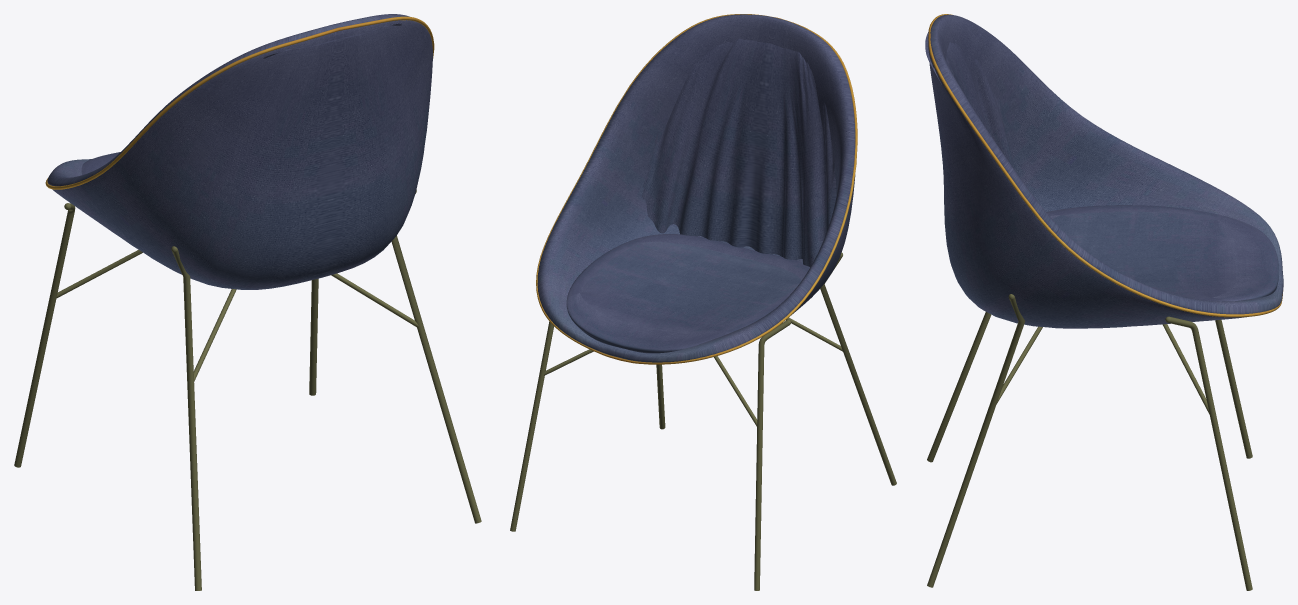
File: chair.glb
3 views of the same model, side by side, from view 1: azimuth 30°, elevation 25°; view 2: azimuth 150°, elevation 25°; view 3: azimuth 270°, elevation 25° (orthographic). The views are drawn at different scales.
Parts seen in each view (by area): view 1: Kütle, Ayaklar, Bağlantılar, Sweep; view 2: Kütle, Minderü, Bağlantılar, Sweep, Ayaklar; view 3: Kütle, Minderü, Bağlantılar, Ayaklar, Sweep.
Boxes of the visible parts, bbox=[...] form: Kütle: bbox=[47, 14, 432, 289]; Ayaklar: bbox=[171, 190, 481, 590]; Bağlantılar: bbox=[14, 203, 418, 467]; Sweep: bbox=[45, 16, 434, 189]; Kütle: bbox=[537, 14, 855, 362]; Minderü: bbox=[566, 234, 809, 353]; Bağlantılar: bbox=[510, 317, 842, 590]; Sweep: bbox=[536, 14, 857, 364]; Ayaklar: bbox=[656, 252, 896, 485]; Kütle: bbox=[925, 14, 1283, 328]; Minderü: bbox=[1046, 205, 1278, 301]; Bağlantılar: bbox=[996, 316, 1252, 590]; Ayaklar: bbox=[927, 294, 1025, 587]; Sweep: bbox=[928, 14, 1283, 317].
Bounding box in the file's own units: 0.5259 × 0.8454 × 0.5605.
Materials: 3 (2 with a texture image).
